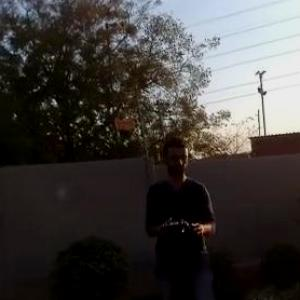follow: (140, 128, 226, 299)
